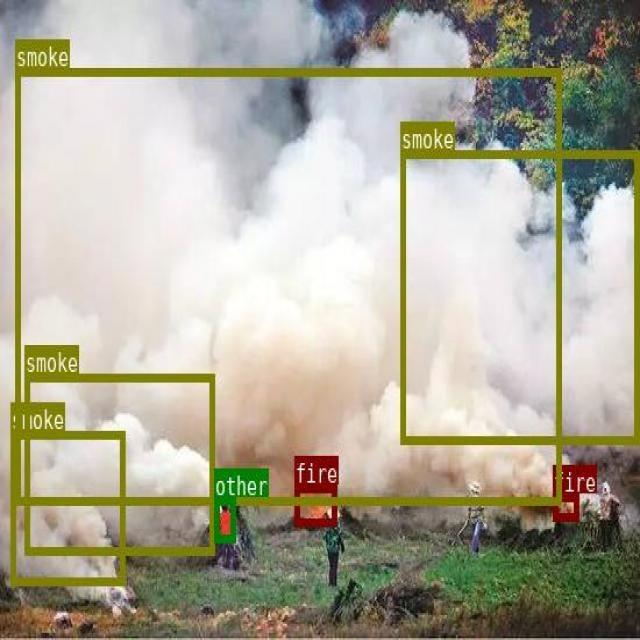fire: (294, 483, 335, 524), (552, 492, 578, 520)
smoke: (14, 67, 560, 503), (399, 149, 638, 442), (23, 373, 214, 553), (10, 430, 124, 584)
